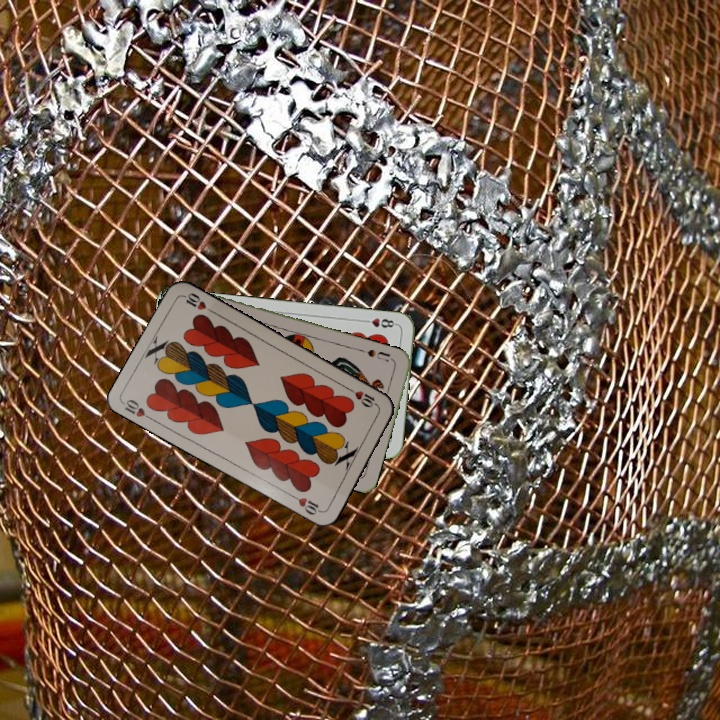H10: (120, 395, 157, 424), (344, 384, 381, 410)
H8: (359, 314, 399, 330)
SU: (363, 345, 397, 364)
